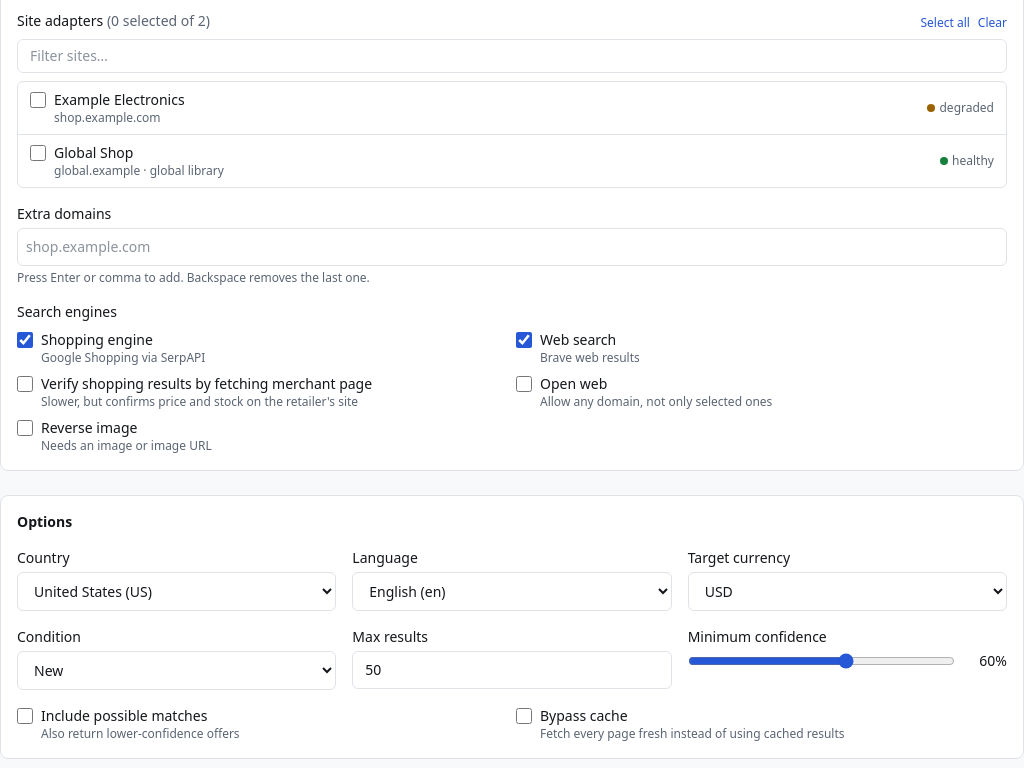
SearchForm submission › disables and clears verification when the shopping engine is off
(page scrolled)
Click the checkbox labelled "Verify shopping results by fetching merchant page": (25, 384) [17, 376, 33, 392]
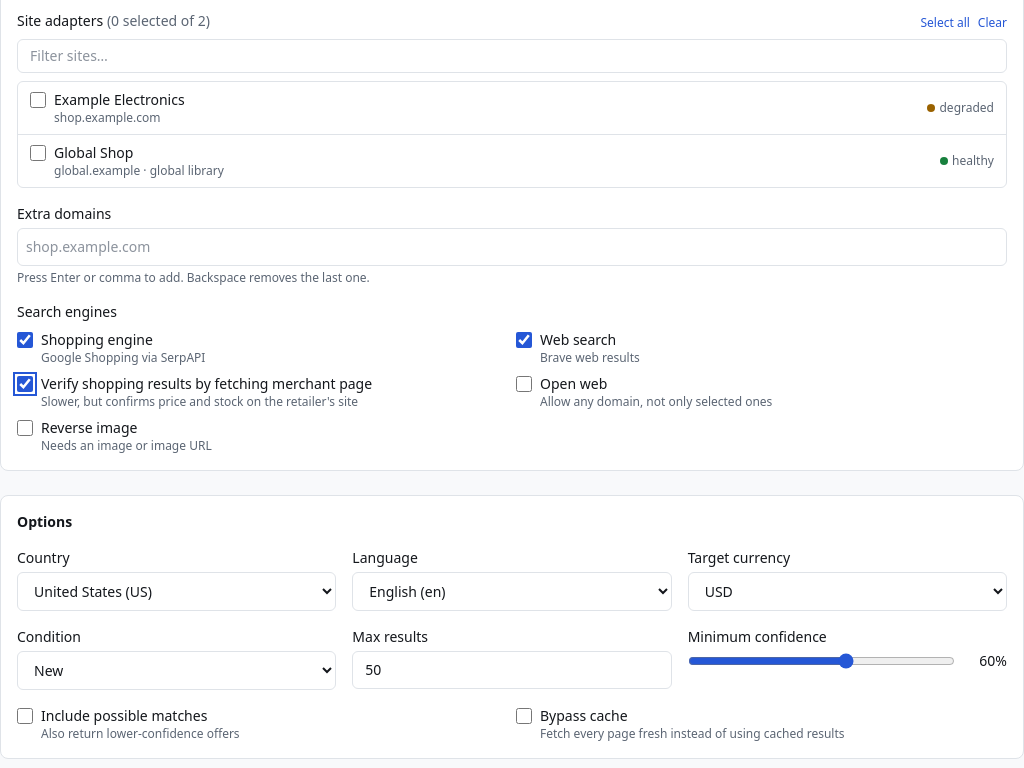
Click the checkbox labelled "Shopping engine": (25, 340) [17, 332, 33, 348]
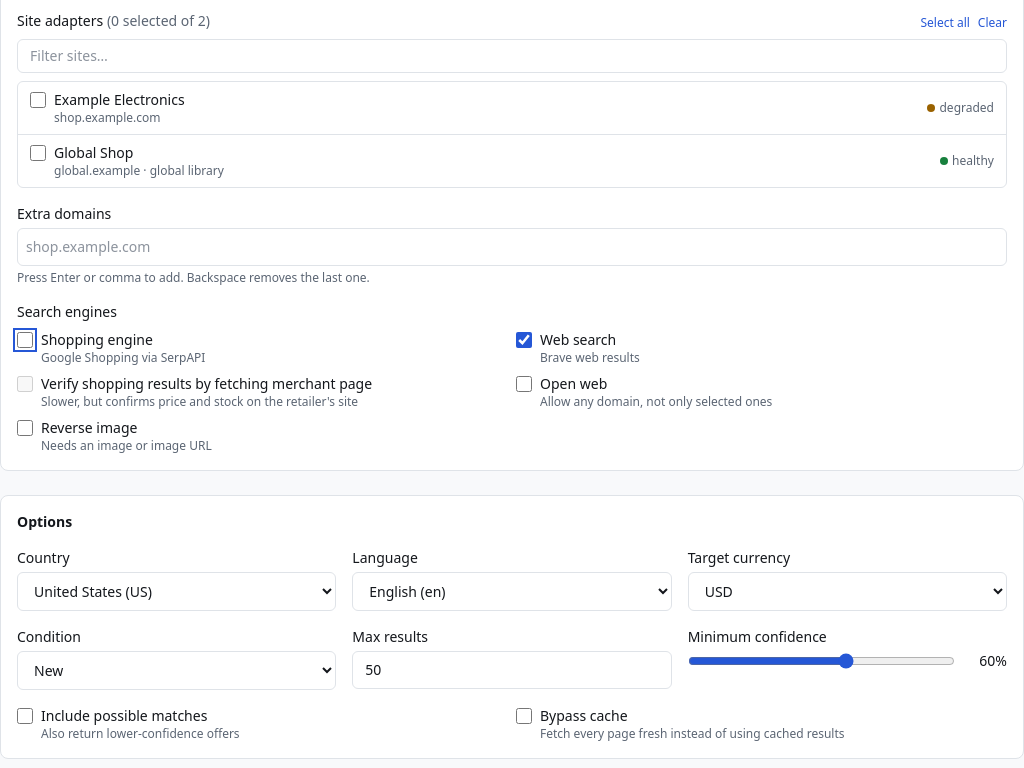
Expected: the checkbox labelled "Verify shopping results by fetching merchant page" is not checked, [17, 376, 33, 392]
Expected: the checkbox labelled "Verify shopping results by fetching merchant page" is disabled, [17, 376, 33, 392]
